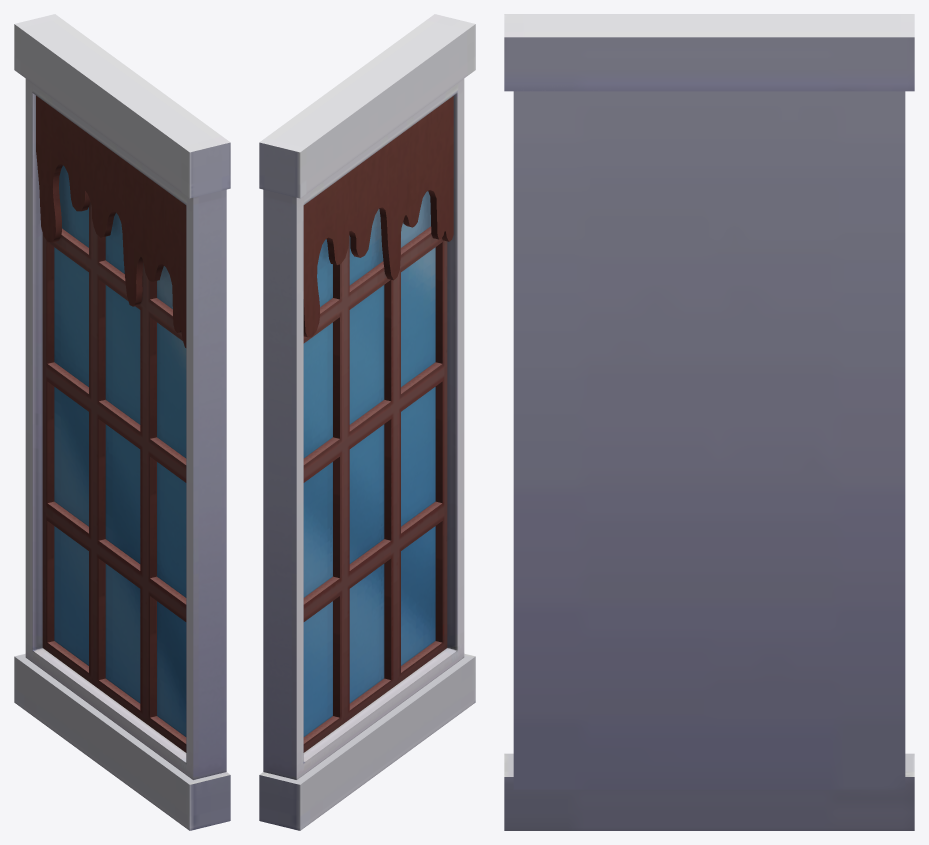
File: my_chocolatecafe_01_p_window.glb
3 views of the same model, side by side, from view 1: azimuth 30°, elevation 25°; view 2: azimuth 150°, elevation 25°; view 3: azimuth 270°, elevation 25° (orthographic). The views are drawn at different scales.
Visible parts, largest first — view 1: my_chocolatecafe_01_p_window; view 2: my_chocolatecafe_01_p_window; view 3: my_chocolatecafe_01_p_window.
Boxes of the visible parts, <box> form: my_chocolatecafe_01_p_window: <box>14,14,230,830</box>; my_chocolatecafe_01_p_window: <box>259,14,475,830</box>; my_chocolatecafe_01_p_window: <box>504,14,914,830</box>.
Size of the model in its own units: 0.00102 by 0.0161 by 0.00756.
Materials: 1 (1 with a texture image).
